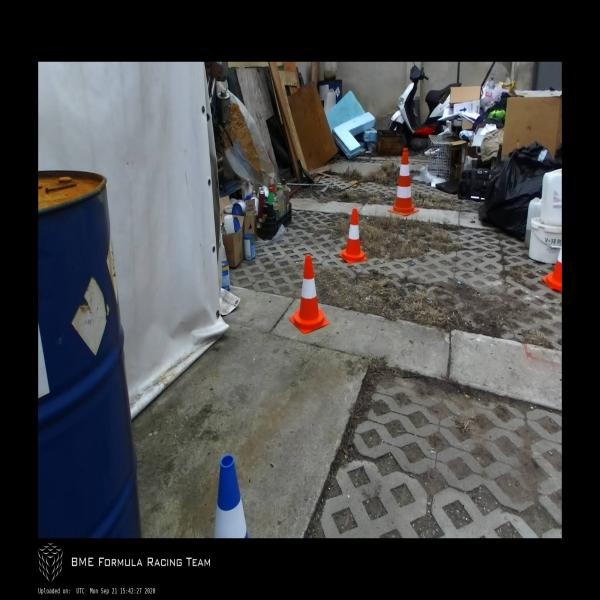blue_cone: (214, 456, 249, 538)
large_orange_cone: (387, 148, 419, 216)
orange_cone: (289, 256, 329, 333), (338, 209, 368, 264)
